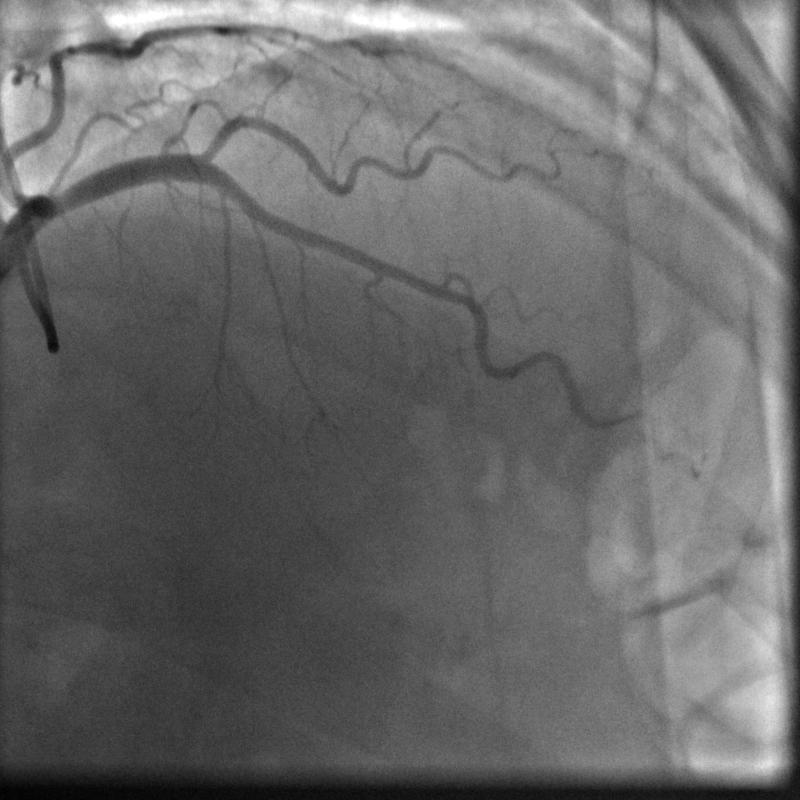Stenosis: (428, 275, 489, 314)
